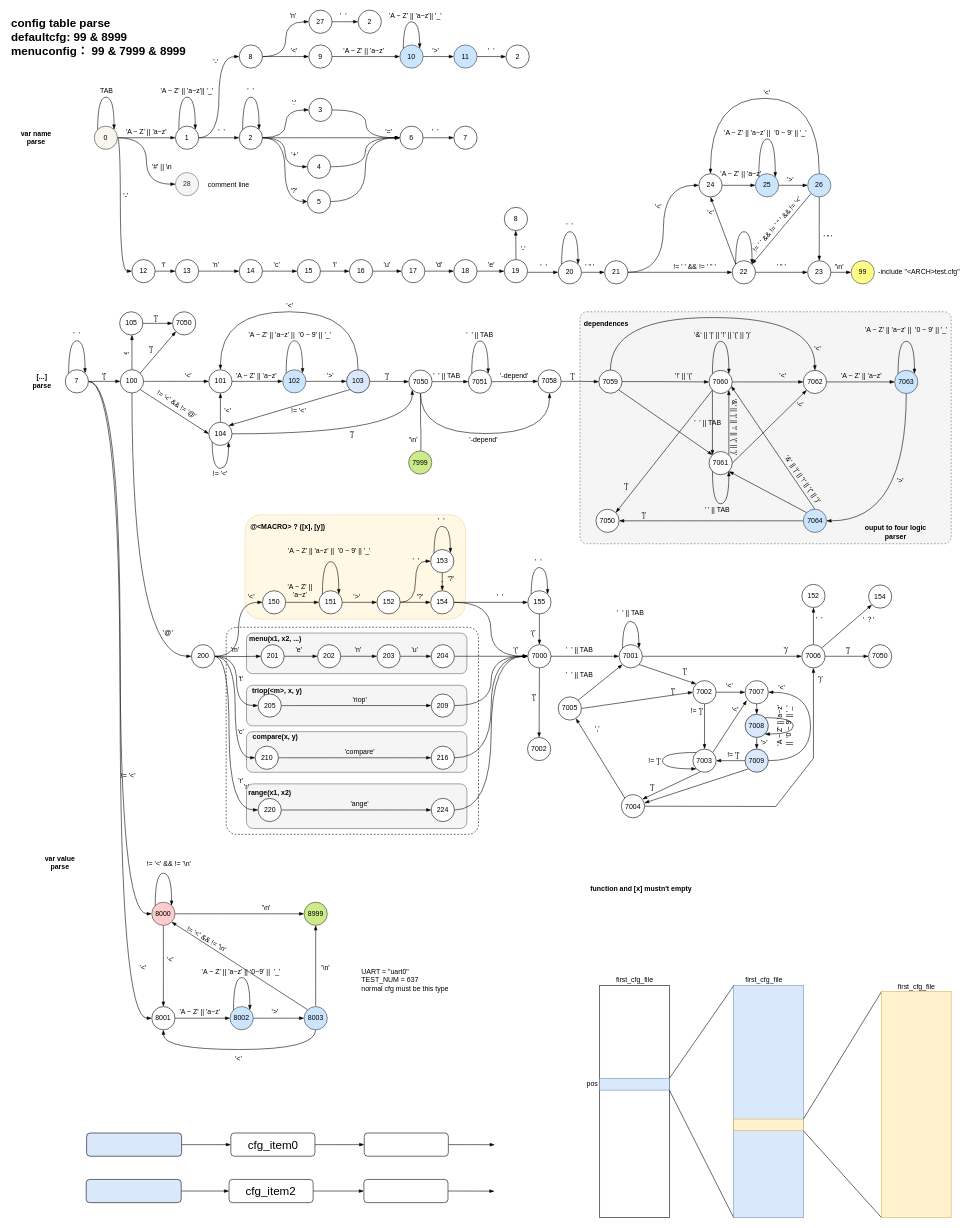
The diagram is 974 pixels wide and 1228 high, and some of its shapes have lost their labels. The shapes that lost their labels are listed below. From the top down, each one's centre as x and y in pixels, then its label:
the point at 134,1144: default_list_head
the point at 406,1144: cfg_item8
the point at 133,1191: menu_list_head
the point at 405,1191: cfg_item4
